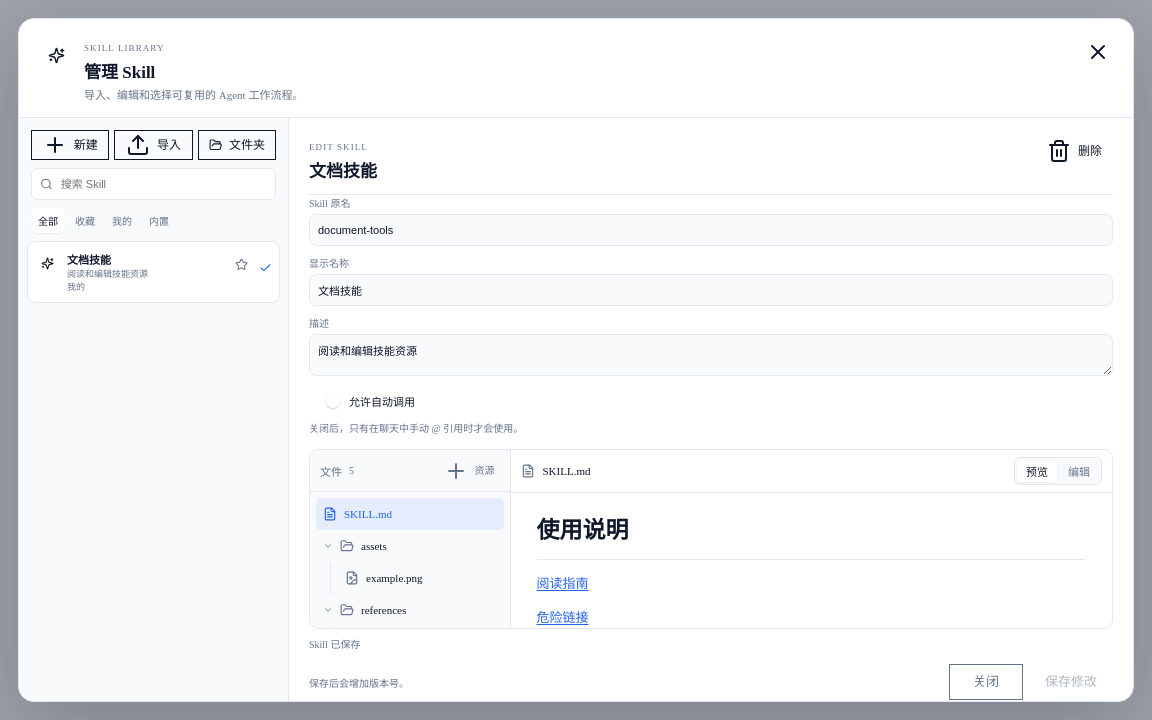
Test: SkillManager › searches by original or display name without matching descriptions
Type "DOCUMENT-TOOLS" into the field labelled "搜索 Skill" at point(163, 184), box left=59, top=177, right=267, bottom=191
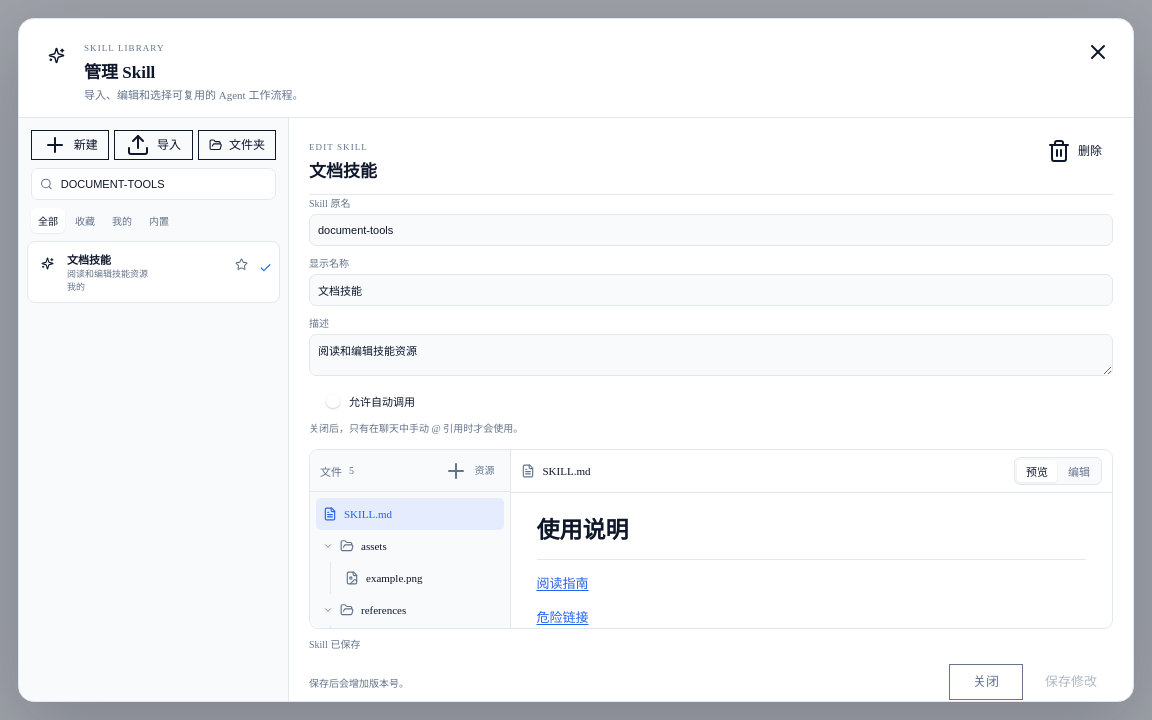
Expected: the element with class "darl-agent-skill-list" shows "文档技能", left=35, top=251, right=223, bottom=293
Replace the text in the field named "搜索 Skill" with "文档技能" at point(163, 184), box left=59, top=177, right=267, bottom=191
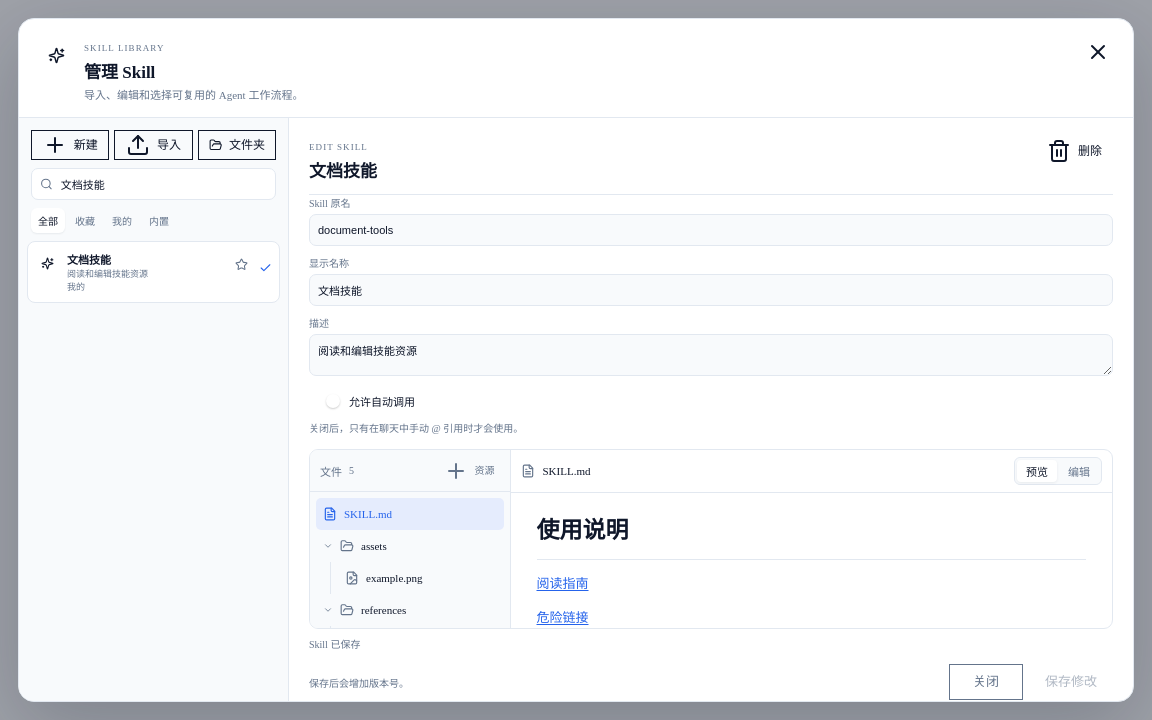
Expected: the element with class "darl-agent-skill-list" shows "文档技能", left=35, top=251, right=223, bottom=293
Replace the text in the field named "搜索 Skill" with "阅读和编辑" at point(163, 184), box left=59, top=177, right=267, bottom=191
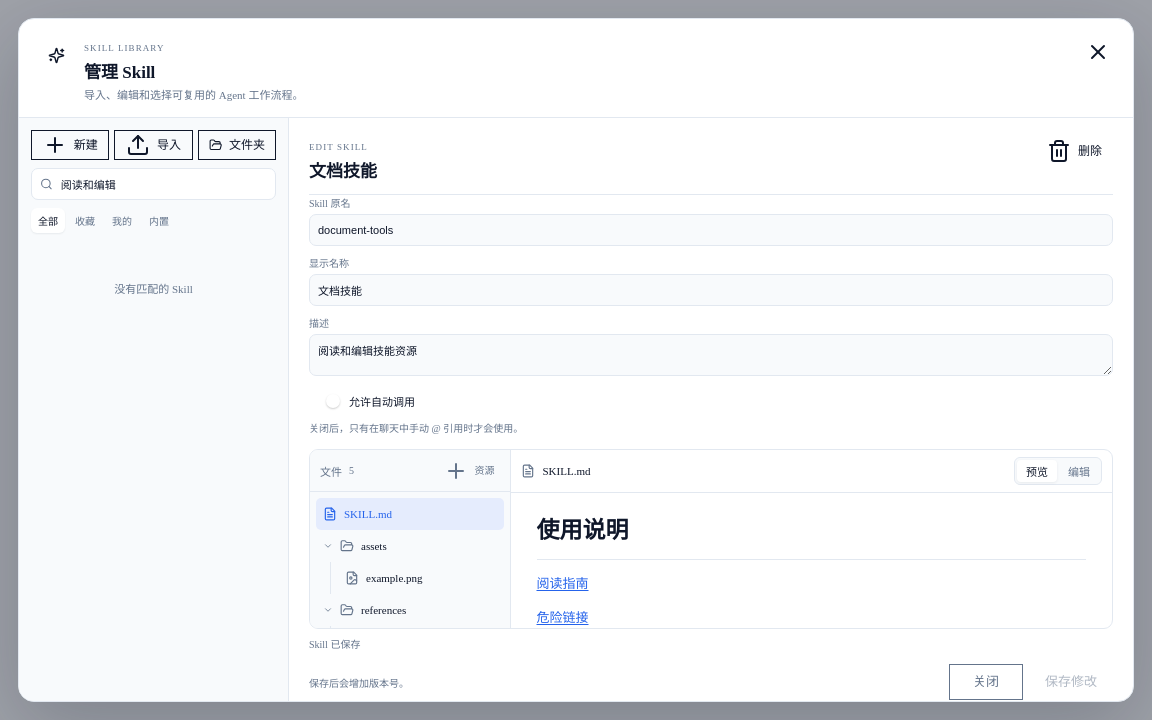
Expected: the element with class "darl-agent-skill-list" reads "没有匹配的 Skill", left=114, top=283, right=193, bottom=295
